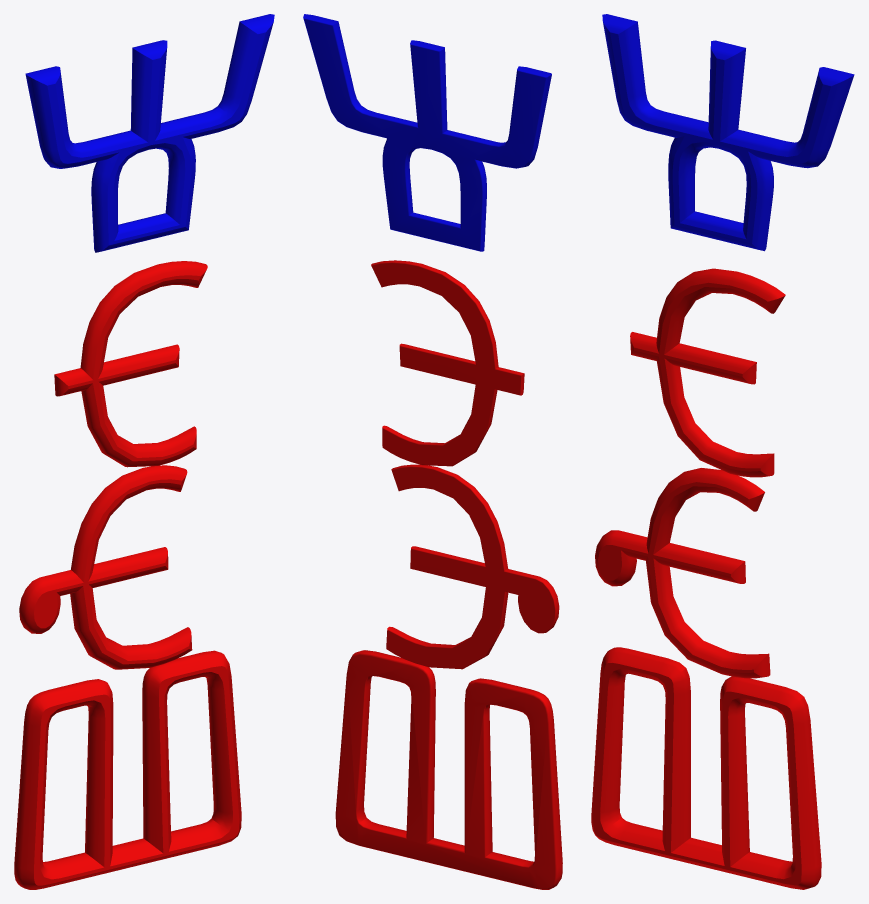
The model's file is Text_sign_13.fbx.
3 views of the same model, side by side, from view 1: azimuth 30°, elevation 25°; view 2: azimuth 150°, elevation 25°; view 3: azimuth 330°, elevation 25° (orthographic).
Visible parts, largest first — view 1: Text_sign_13; view 2: Text_sign_13; view 3: Text_sign_13.
Boxes of the visible parts, x1=… form: Text_sign_13: x1=14, y1=14, x2=274, y2=889; Text_sign_13: x1=303, y1=14, x2=562, y2=889; Text_sign_13: x1=591, y1=14, x2=854, y2=889.
Size of the model in its own units: 29.28 by 88.77 by 2.45.
